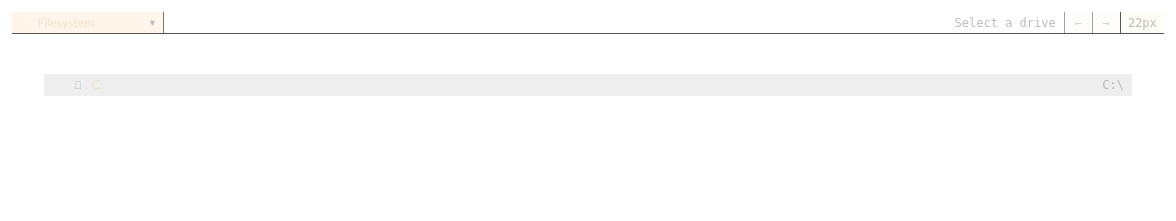
Test case: FilesystemPanel › moves an entry when dropped onto the .. up target
Double-click the button "C: C:\\" at (78, 85), box [44,74,1132,96]
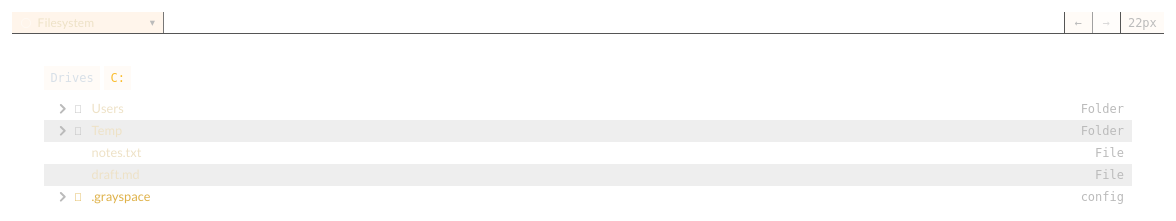
Double-click the button "Users Folder" at (108, 109), box [44,98,1132,120]
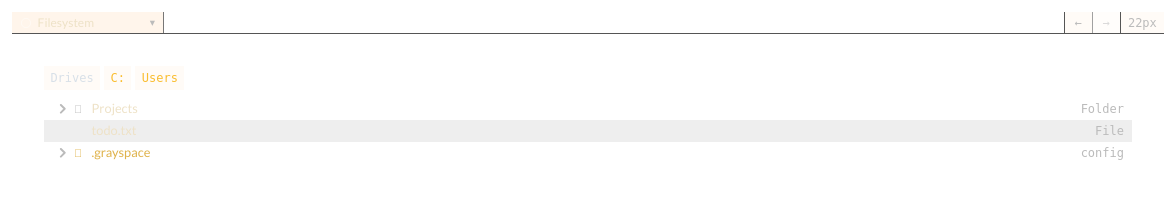
Expected: the button "todo.txt File" is shown, [44,120,1132,142]
